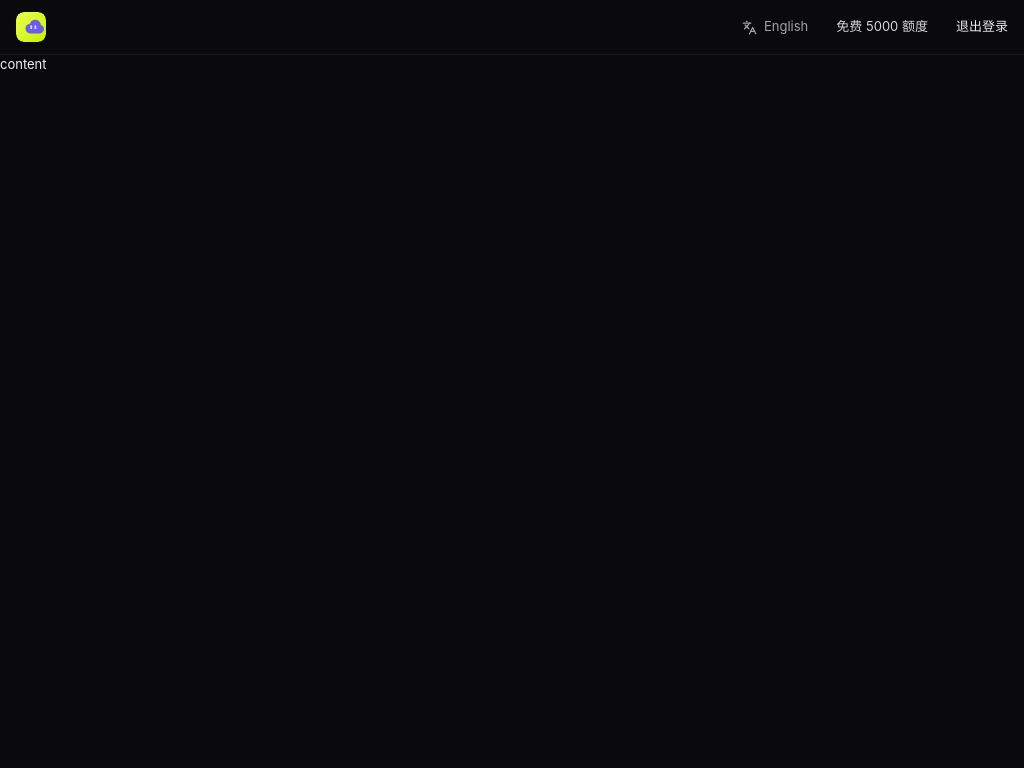
Test: 演示身份与顶部操作 › 账户弹窗展示演示资料并进入额度与方案
The image size is (1024, 768).
Click the button "免费 5000 额度": (882, 27) [836,17,928,37]
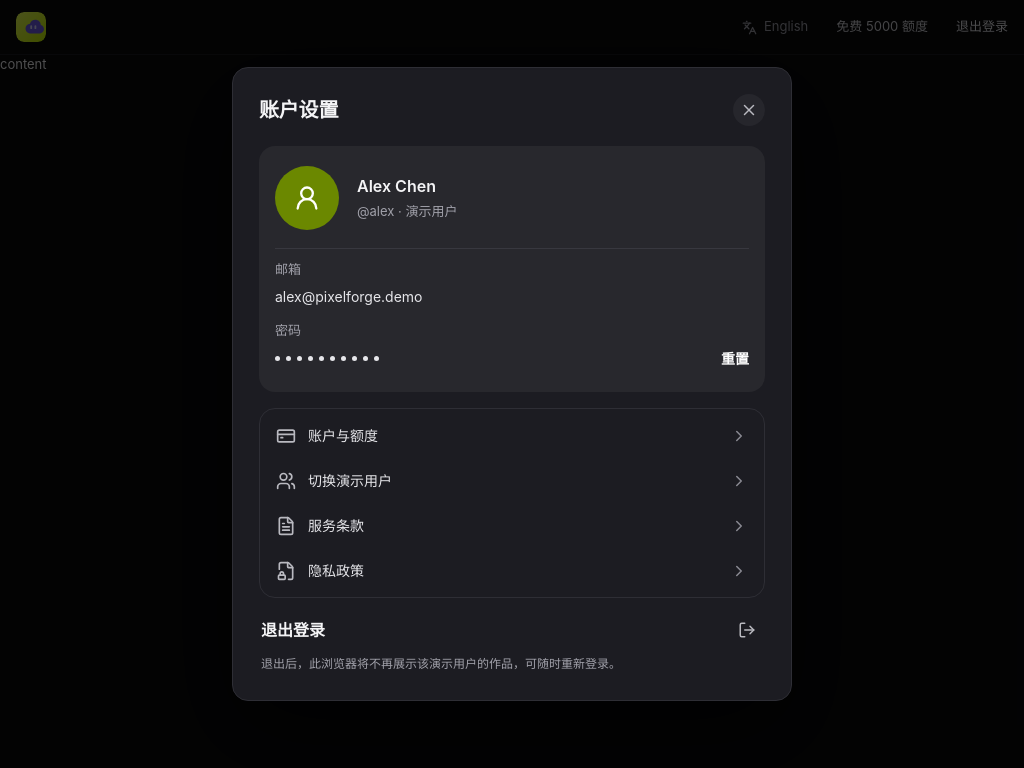
expect the heading "账户设置" is shown: met, box [259,95,338,125]
expect the text "alex@pixelforge.demo" is shown: met, box [275,288,422,305]
Click the button "账户与额度": (343, 436) [264,413,760,458]
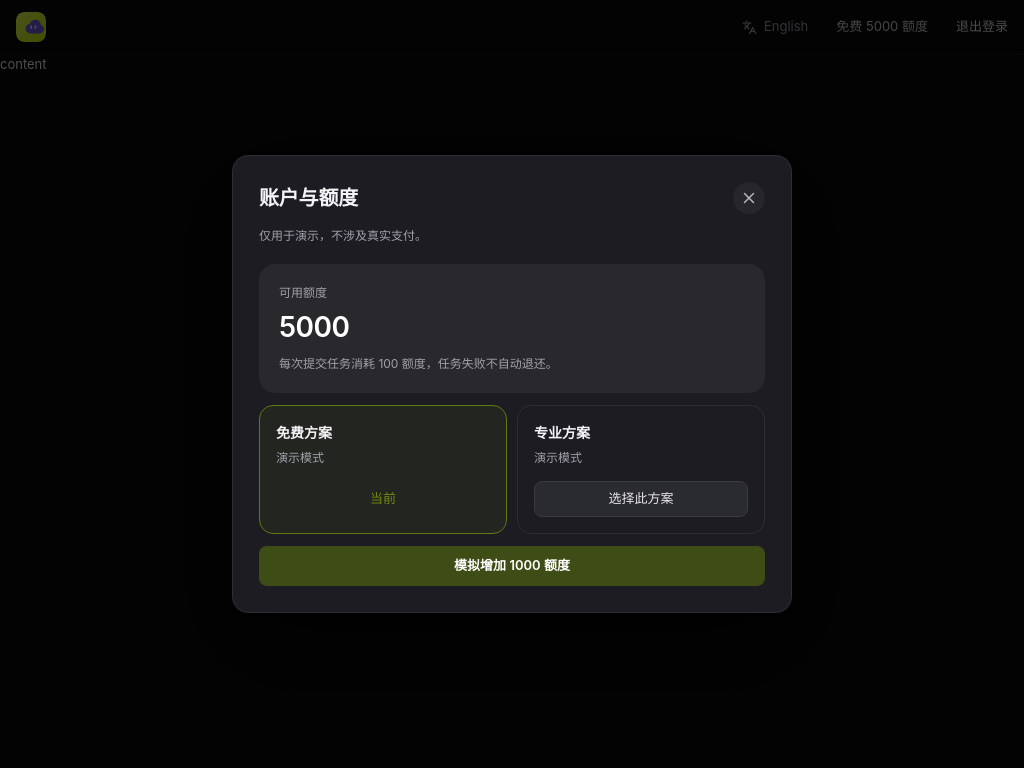
expect the text "可用额度" is shown: met, box [279,285,327,300]
